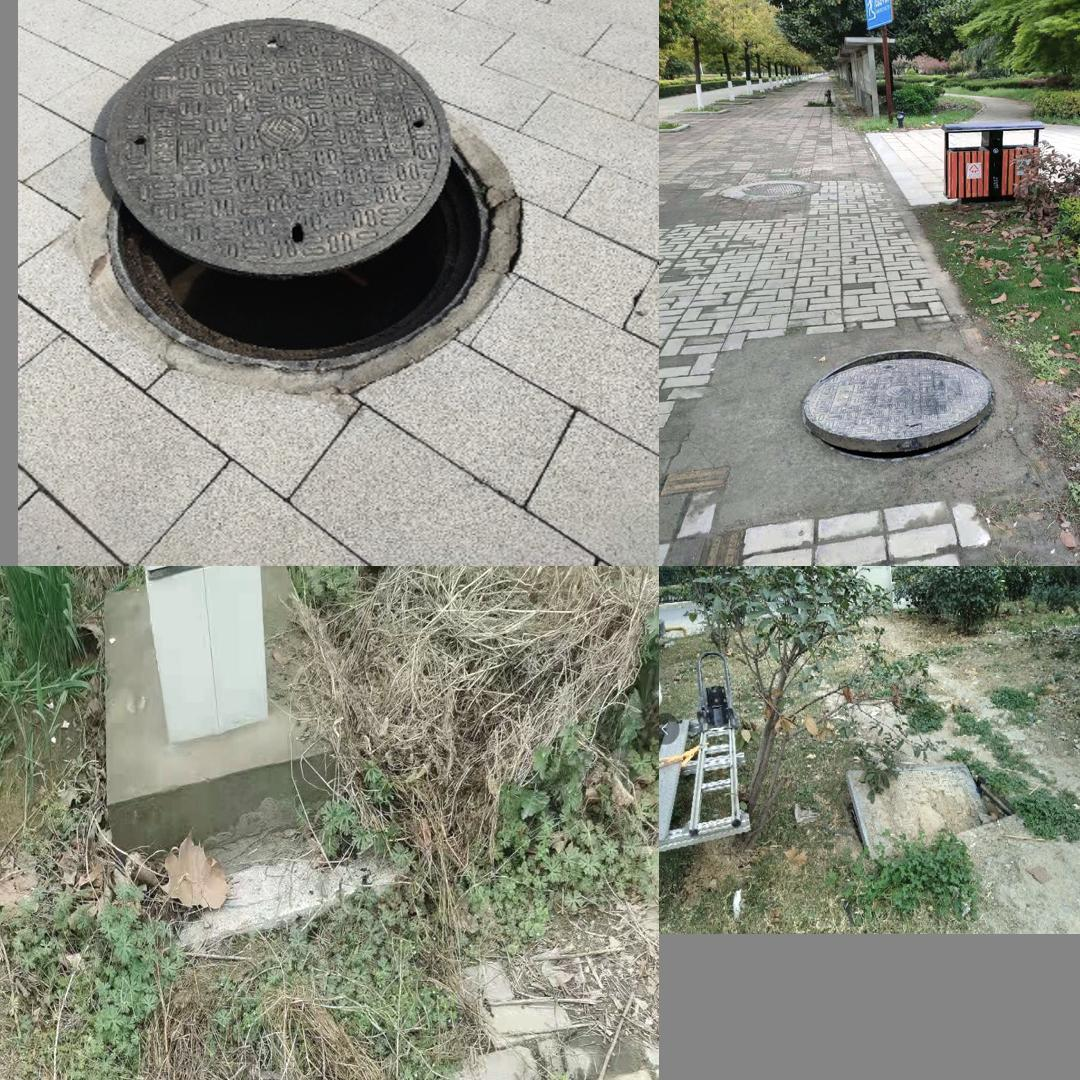uncovered: (107, 17, 493, 365), (795, 333, 1008, 470), (826, 747, 1016, 855)
